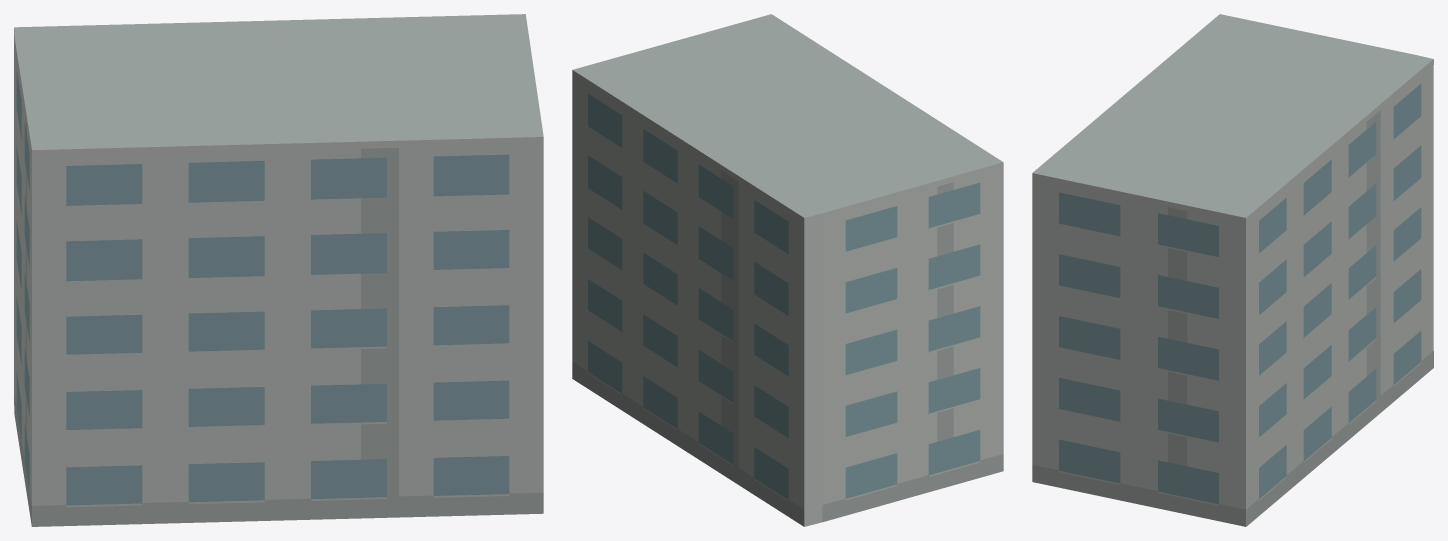
Rendered from survey-upis-32881823.glb.
3 renders of one model, left to right at view 1: azimuth 30°, elevation 25°; view 2: azimuth 150°, elevation 25°; view 3: azimuth 270°, elevation 25°, orthographic. The views are drawn at different scales.
Visible parts, largest first — view 1: survey-upis-32881823.tmp; view 2: survey-upis-32881823.tmp; view 3: survey-upis-32881823.tmp.
Part boxes in pixels (left/top/right/bottom): survey-upis-32881823.tmp: left=14, top=14, right=543, bottom=526; survey-upis-32881823.tmp: left=572, top=14, right=1003, bottom=526; survey-upis-32881823.tmp: left=1032, top=14, right=1433, bottom=526.
Bounding box in the file's own units: 18.42 × 13 × 15.32.
